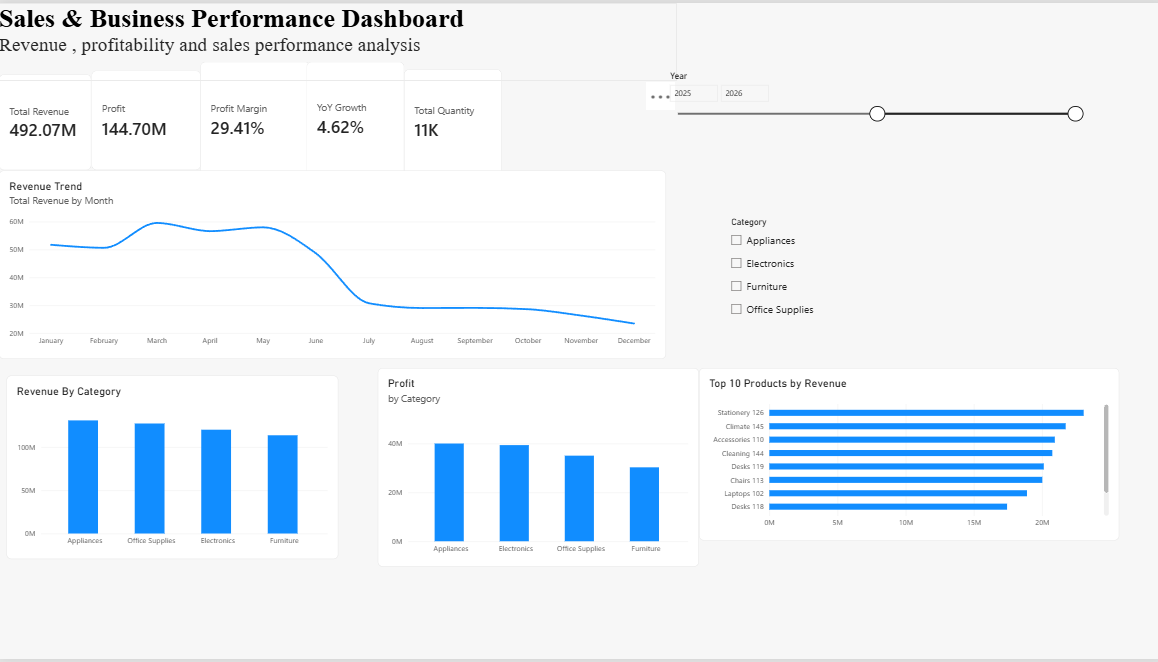

This screenshot's page, from the dashboard's own definition file:
{"tool":"powerbi","page":{"name":"Executive Overview","canvas":[1920,1080],"ordinal":0},"visuals":[{"type":"cardVisual","fields":{"Data":["Fact_Sales.Total Revenue"]},"box":[0,117,152,158],"z":0},{"type":"cardVisual","fields":{"Data":["Fact_Sales.Profit"]},"box":[152,111,180,164],"z":1000},{"type":"cardVisual","fields":{"Data":["Fact_Sales.Profit Margin"]},"box":[332,97,181,192],"z":2000},{"type":"cardVisual","fields":{"Data":["Fact_Sales.YoY Growth"]},"box":[506,97,161,187],"z":3000},{"type":"cardVisual","fields":{"Data":["Fact_Sales.Total Quantity"]},"box":[667,109,161,174],"z":4000},{"type":"textbox","box":[0,0,1116.6,126.7],"z":5000},{"type":"lineChart","title":"Revenue Trend","fields":{"Category":["Dim_Date.Month"],"Y":["Fact_Sales.Total Revenue"]},"box":[0,276,1098,310],"z":6000},{"type":"clusteredColumnChart","title":"Revenue By Category","fields":{"Category":["Dim_Product.Category"],"Y":["Fact_Sales.Total Revenue"]},"box":[12,614,546,302],"z":7000},{"type":"clusteredColumnChart","fields":{"Category":["Dim_Product.Category"],"Y":["Fact_Sales.Profit"]},"box":[624,602,528.8,327.5],"z":8000},{"type":"slicer","fields":{"Values":["Dim_Date.Year"]},"box":[1098,112,692,298],"z":9000},{"type":"slicer","fields":{"Values":["Dim_Product.Category"]},"box":[1198,352,692,250],"z":10000},{"type":"clusteredBarChart","title":"Top 10 Products by Revenue","fields":{"Category":["Dim_Product.ProductName"],"Y":["Fact_Sales.Total Revenue"]},"box":[1152,602,692,284],"z":11000}]}

Visuals, with their boxes in screenshot pixels (x1, y1, x2, y2), scaled from the page's 1920x1080 canvas onto the 1158x662 screenshot:
cardVisual - Fact_Sales.Total Revenue: bbox=[0, 72, 92, 169]
cardVisual - Fact_Sales.Profit: bbox=[92, 68, 200, 169]
cardVisual - Fact_Sales.Profit Margin: bbox=[200, 59, 309, 177]
cardVisual - Fact_Sales.YoY Growth: bbox=[305, 59, 402, 174]
cardVisual - Fact_Sales.Total Quantity: bbox=[402, 67, 499, 173]
textbox: bbox=[0, 0, 673, 78]
"Revenue Trend" lineChart: bbox=[0, 169, 662, 359]
"Revenue By Category" clusteredColumnChart: bbox=[7, 376, 337, 561]
clusteredColumnChart - Dim_Product.Category x Fact_Sales.Profit: bbox=[376, 369, 695, 570]
slicer - Dim_Date.Year: bbox=[662, 69, 1080, 251]
slicer - Dim_Product.Category: bbox=[723, 216, 1140, 369]
"Top 10 Products by Revenue" clusteredBarChart: bbox=[695, 369, 1112, 543]
